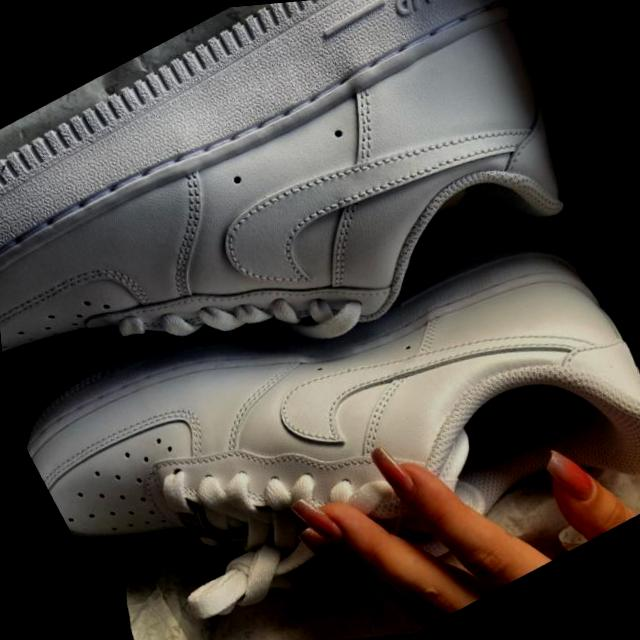nike_original_airforce: (0, 119, 640, 640), (0, 0, 633, 488)
